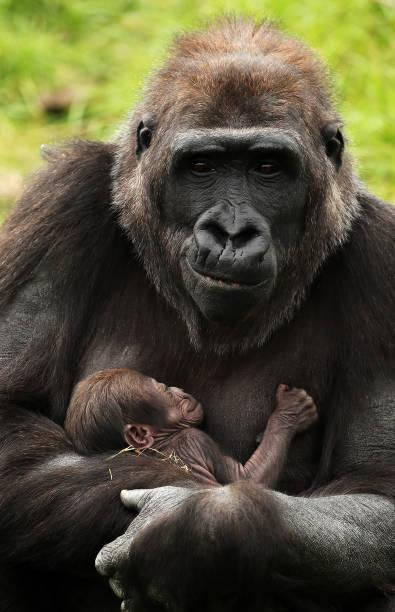gorille_Autres: (0, 17, 395, 612)
